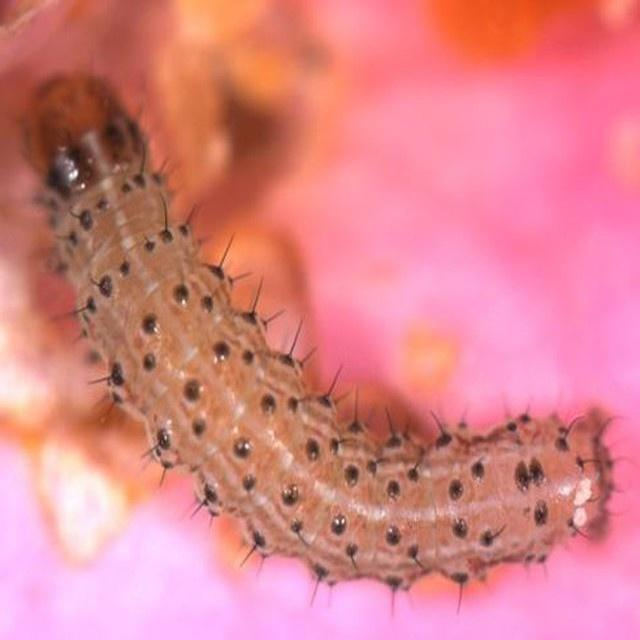gusano_cogollero: (11, 64, 624, 598)
